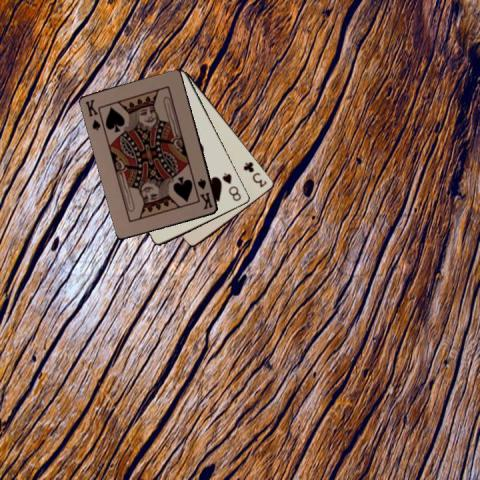3c: (241, 158, 268, 188)
8s: (219, 169, 243, 203)
Ks: (194, 175, 214, 211), (83, 97, 102, 132)
